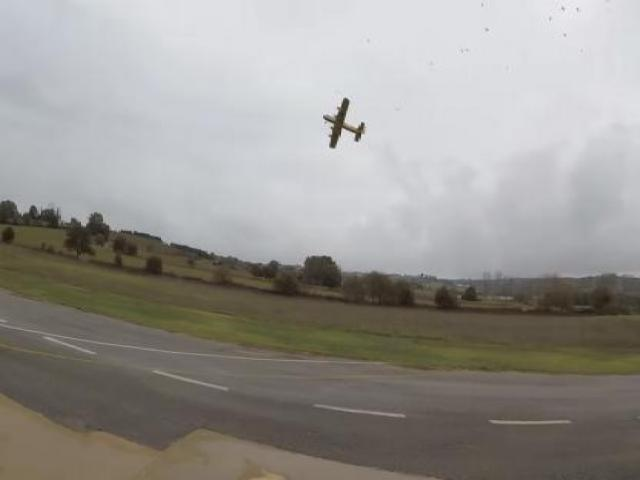uav: (318, 89, 369, 157)
